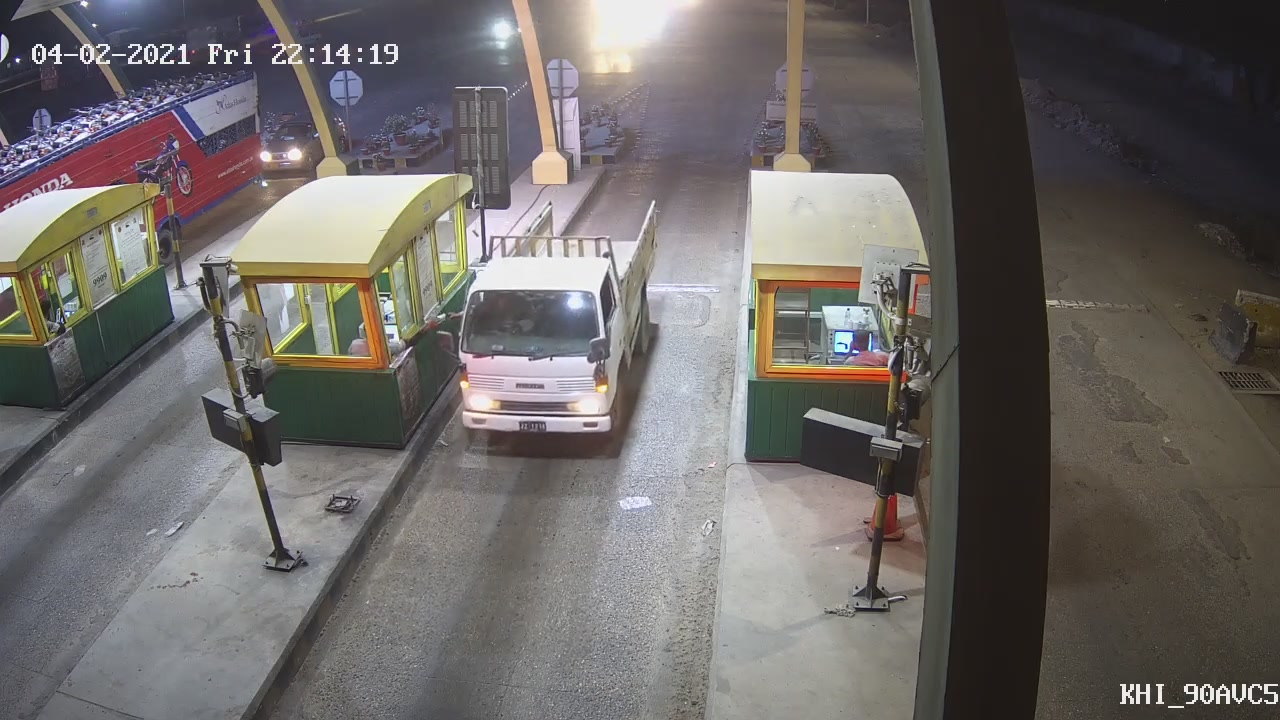F2: (448, 207, 660, 444)
